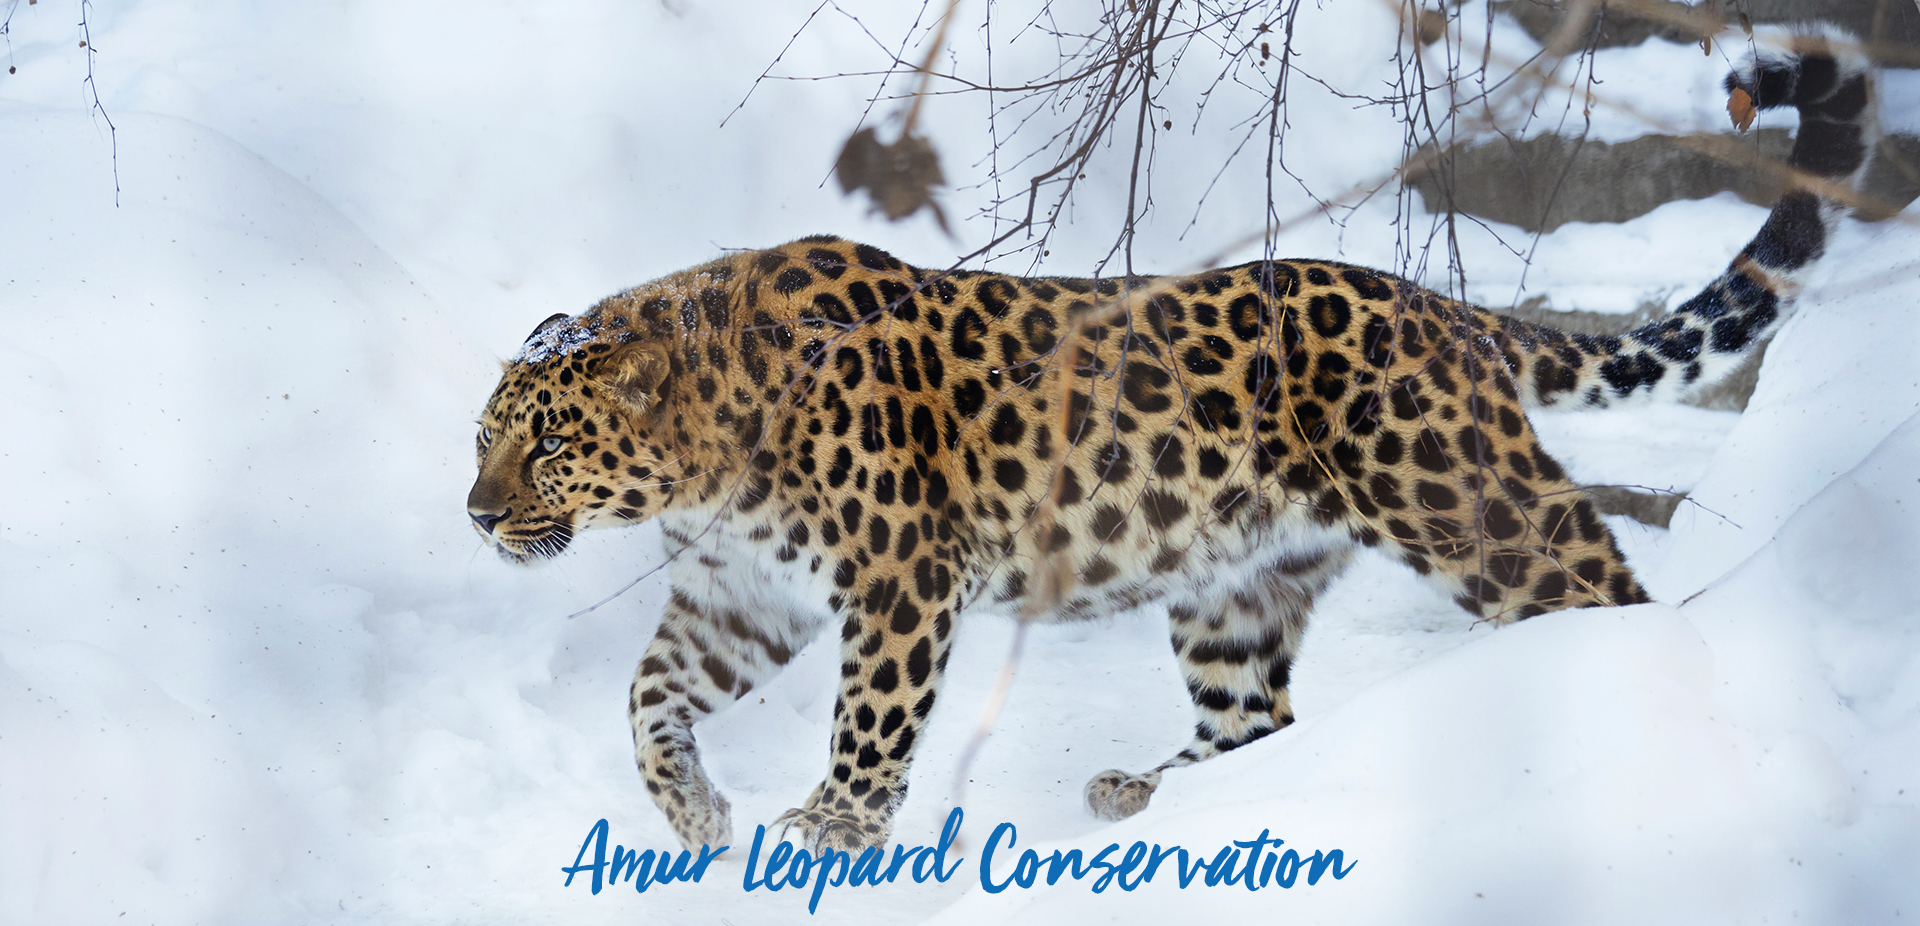amur_leopard: (440, 223, 1635, 781)
